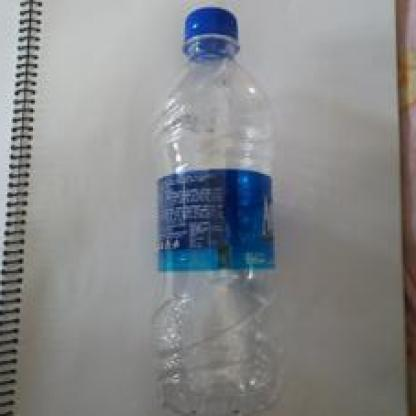bottle: (132, 4, 302, 415)
